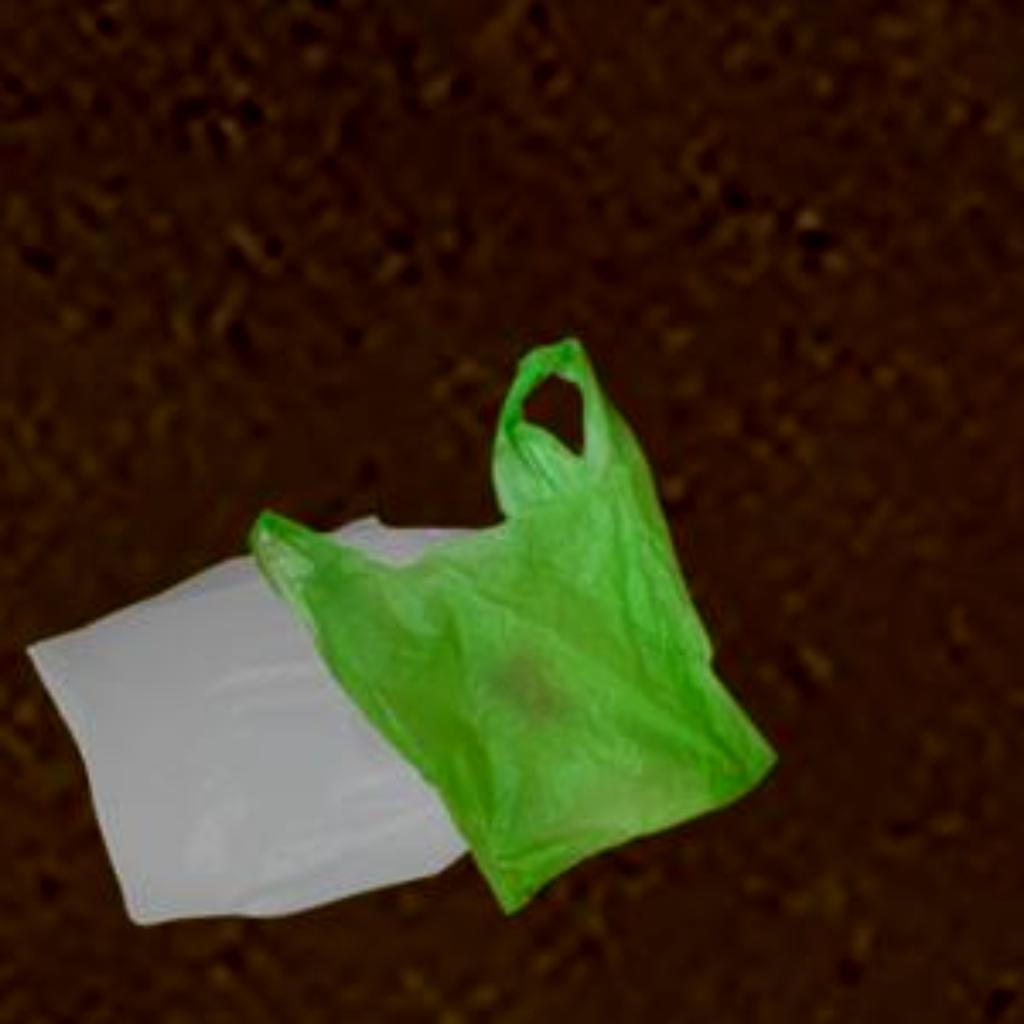garbage: (280, 316, 761, 913), (26, 497, 521, 944)
